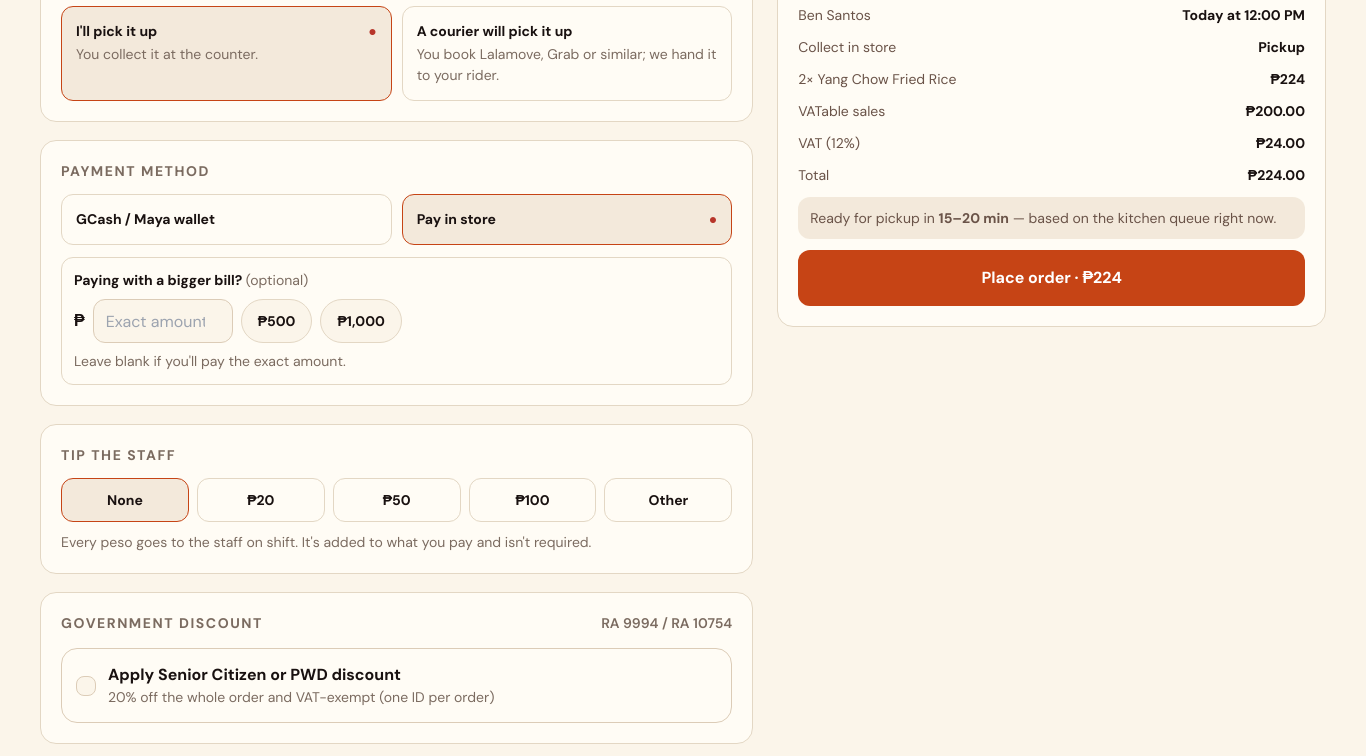
Test: Senior Citizen / PWD discount at checkout (#116 ticket 03) › A ₱224 order with the discount shows: VAT exempt ₱0, discount ₱40, total ₱160
The width and height of the screenshot is (1366, 756).
(page scrolled)
Expected: the text "VATable sales" is shown, [798,101,885,122]
Expected: the text "VAT (12%)" is shown, [798,133,860,154]
Click the checkbox labelled "Apply Senior Citizen or PWD discount" at (397, 686), box [61,648,732,723]
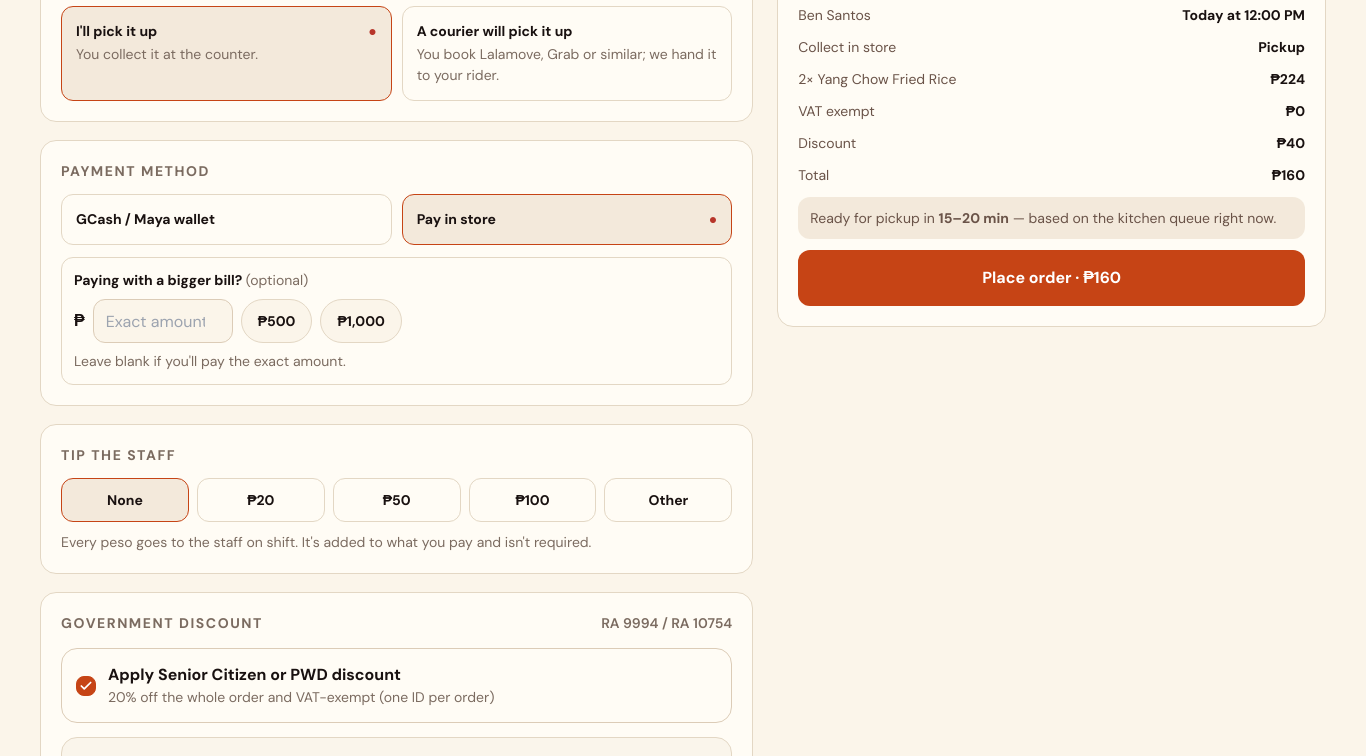
Now the text "VAT exempt" is shown, box [798,101,875,122]
Now the text "₱0" is shown, box [1286,101,1305,122]
Now the text "Discount" is shown, box [798,133,856,154]
